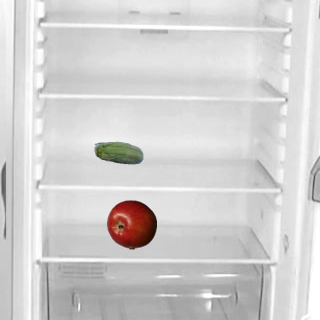Apple Braeburn: (106, 199, 156, 249)
Corn Husk: (93, 129, 143, 179)
